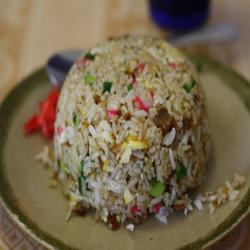rice: (52, 39, 210, 218)
